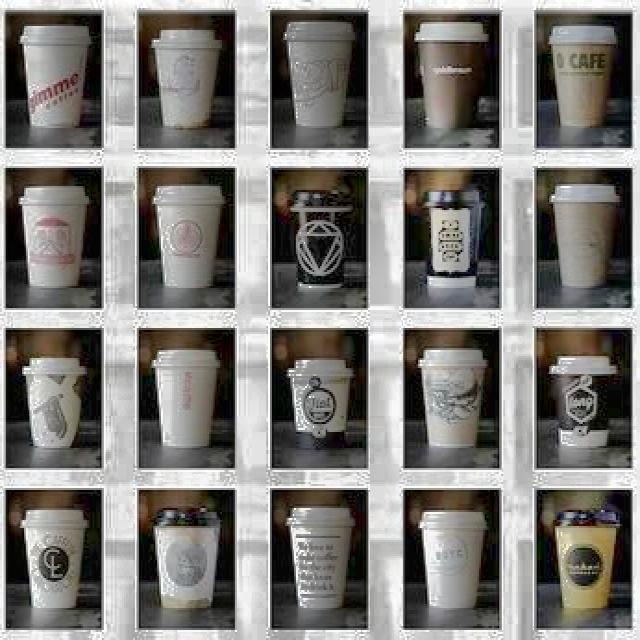Cup: (409, 30, 494, 136), (412, 354, 492, 451), (12, 514, 88, 614), (147, 517, 226, 612), (21, 29, 90, 136), (282, 30, 357, 128), (14, 197, 89, 294), (547, 35, 620, 134), (412, 200, 494, 288), (552, 520, 624, 620), (545, 195, 619, 292), (282, 518, 360, 609), (149, 356, 223, 450), (547, 362, 623, 452), (146, 38, 220, 130), (150, 194, 220, 290), (280, 199, 350, 293), (419, 516, 489, 608), (285, 364, 357, 450), (18, 362, 87, 448)
